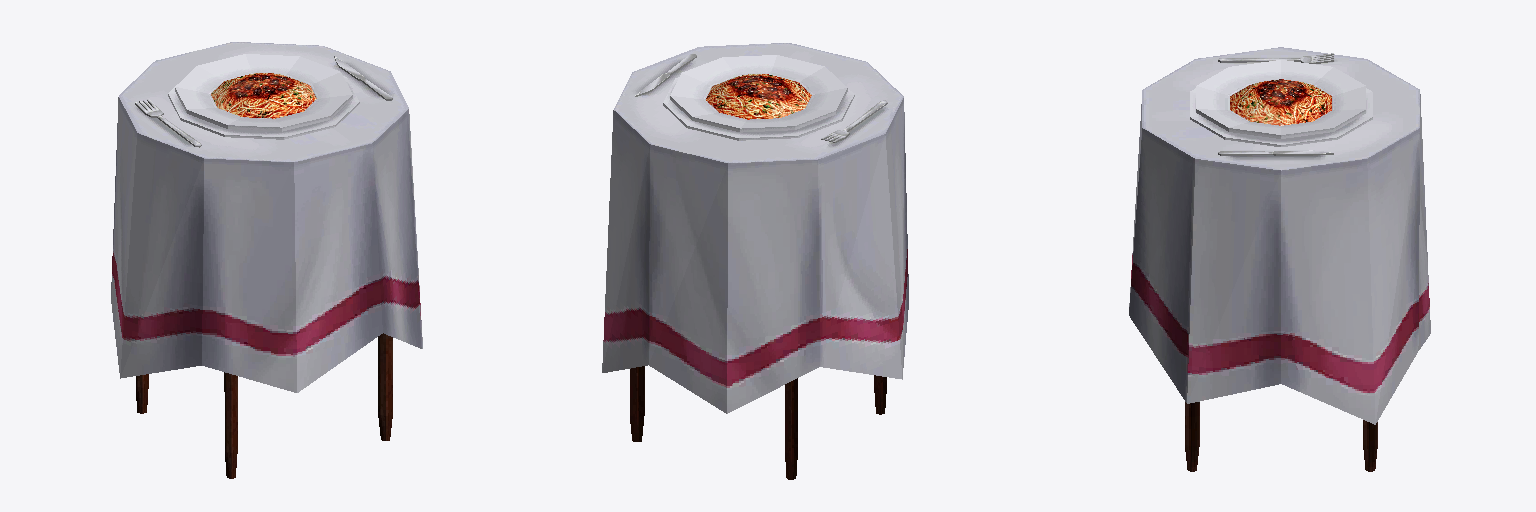
The picture shows the model from 3 angles: view 1: azimuth 30°, elevation 25°; view 2: azimuth 150°, elevation 25°; view 3: azimuth 270°, elevation 25°; orthographic projection.
Parts seen in each view (by area): view 1: Mesh_4028.rip; view 2: Mesh_4028.rip; view 3: Mesh_4028.rip.
Part boxes in pixels (x1,y1,x2,y2): Mesh_4028.rip: (111,42,422,478); Mesh_4028.rip: (602,43,908,479); Mesh_4028.rip: (1129,47,1430,471).
Bounding box in the file's own units: 0.806 × 0.9797 × 0.78.
Materials: 1 (1 with a texture image).